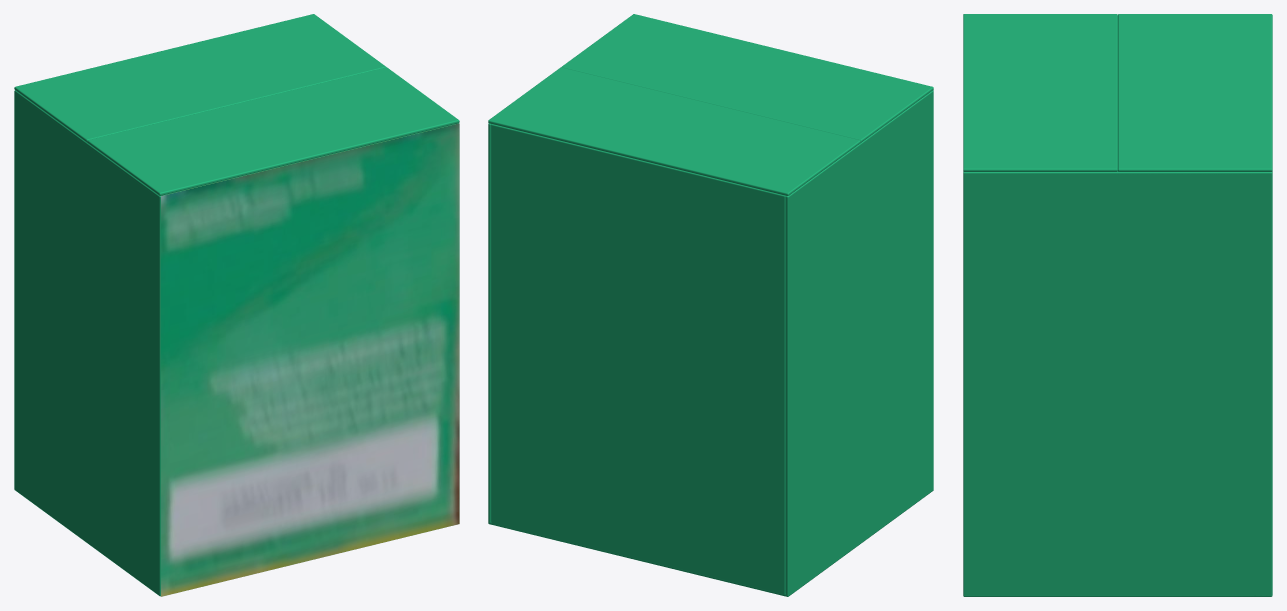
File: pantry_contents__small_food_carton.glb
The picture shows the model from 3 angles, left to right: view 1: azimuth 30°, elevation 25°; view 2: azimuth 150°, elevation 25°; view 3: azimuth 270°, elevation 25°; orthographic projection. The views are drawn at different scales.
Visible parts, largest first — view 1: small_food_carton__body, small_food_carton__flap_front, small_food_carton__flap_back; view 2: small_food_carton__body, small_food_carton__flap_back, small_food_carton__flap_front; view 3: small_food_carton__body, small_food_carton__flap_front, small_food_carton__flap_back.
Part boxes in pixels (box(x1,y1,x2,y2)): small_food_carton__body: box(14, 90, 459, 596); small_food_carton__flap_front: box(87, 67, 459, 195); small_food_carton__flap_back: box(14, 14, 386, 142); small_food_carton__body: box(488, 90, 933, 596); small_food_carton__flap_back: box(488, 67, 860, 195); small_food_carton__flap_front: box(561, 14, 933, 142); small_food_carton__body: box(963, 171, 1272, 596); small_food_carton__flap_front: box(963, 14, 1117, 171); small_food_carton__flap_back: box(1118, 14, 1272, 171).
Bounding box in the file's own units: 0.0773 × 0.0993 × 0.0652.
2 materials, 1 textured.
